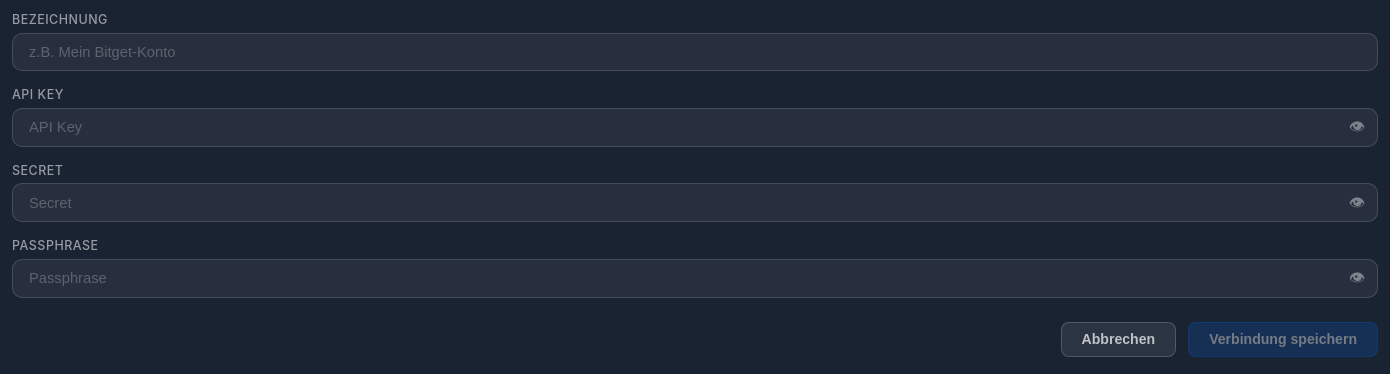
Test: CredentialForm › save button is enabled when all fields are filled
Type "Mein Konto" into the field labelled "Bezeichnung" at (695, 52), box [12,33,1378,71]
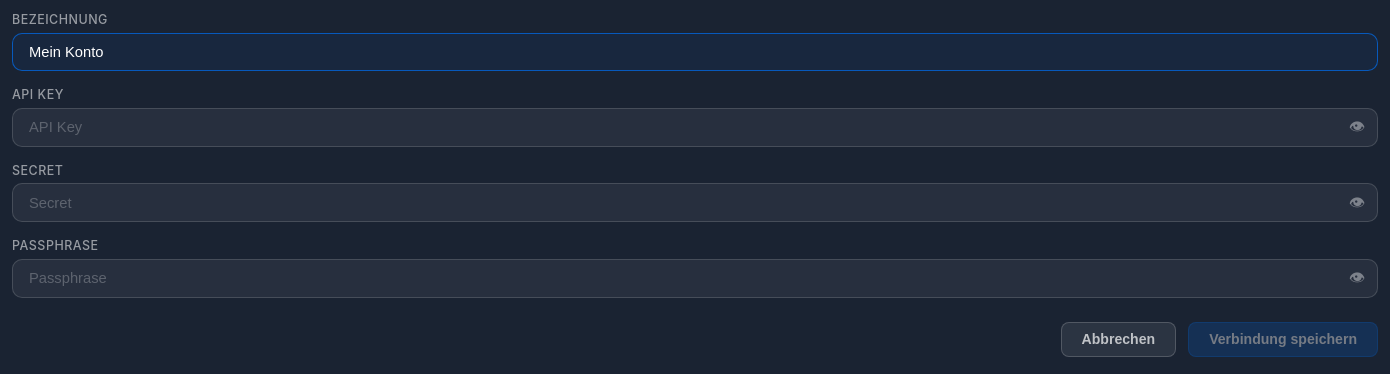
Type "testapikey" into the password field labelled "API Key" at (695, 127), box [12,108,1378,147]
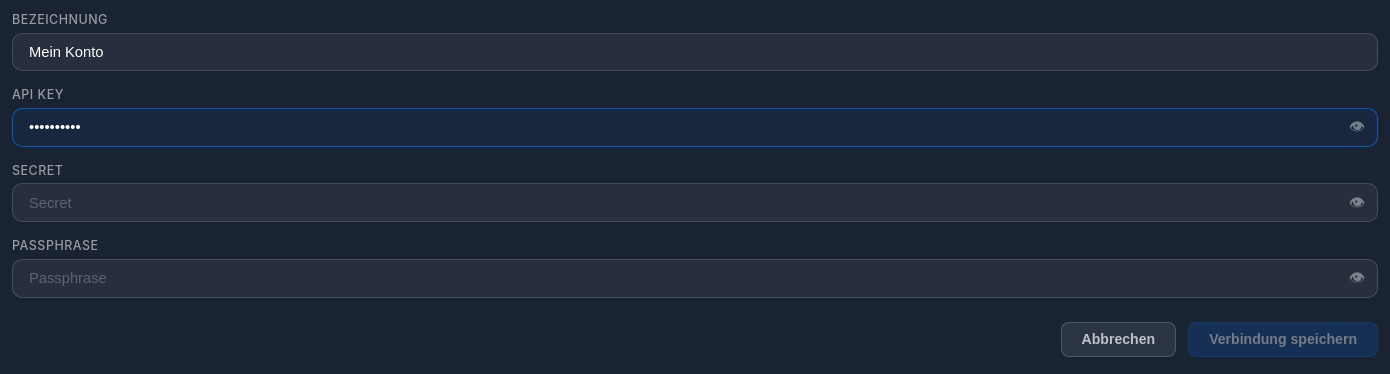
Type "testsecret" into the password field labelled "Secret" at (695, 203), box [12,183,1378,222]
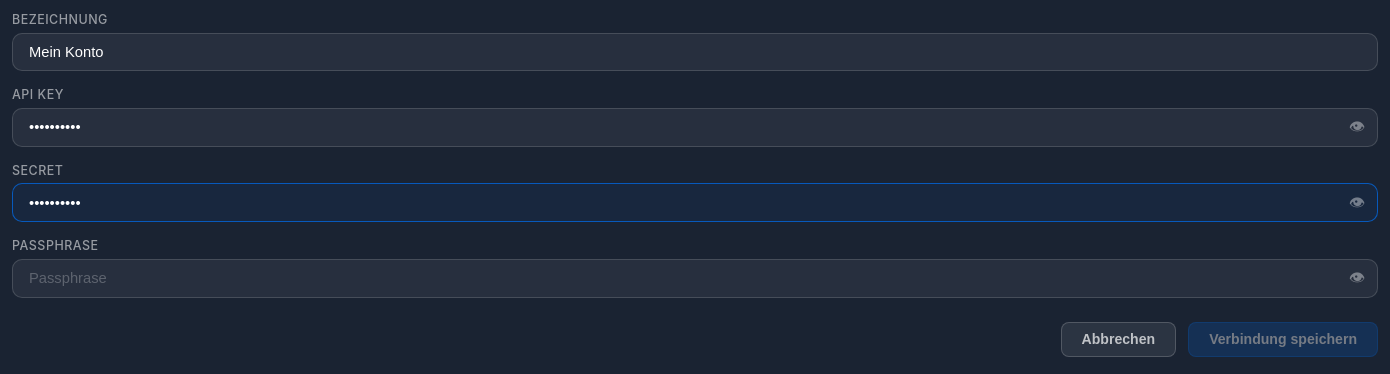
Type "testpass" into the password field labelled "Passphrase" at (695, 278), box [12,259,1378,298]
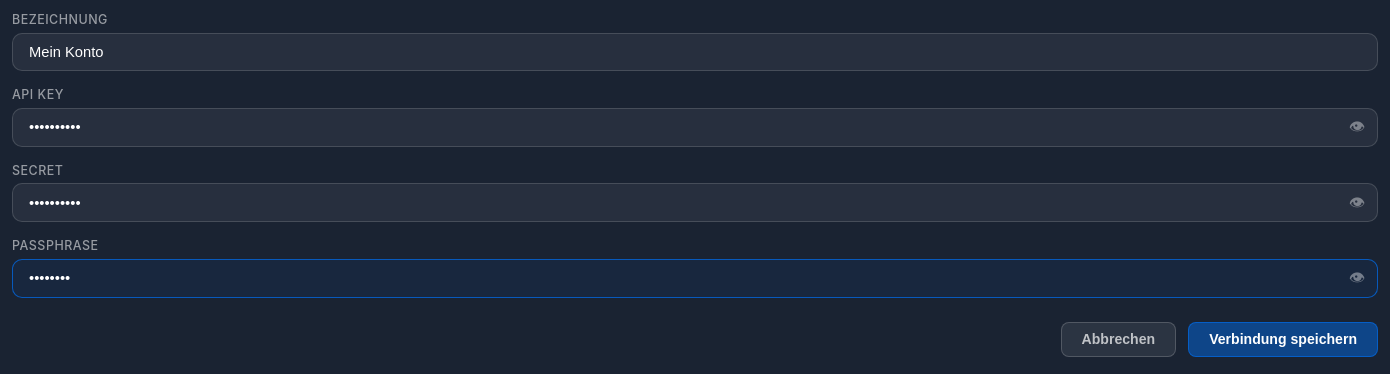
Expected: the button "Verbindung speichern" is enabled, [1188,322,1378,357]
